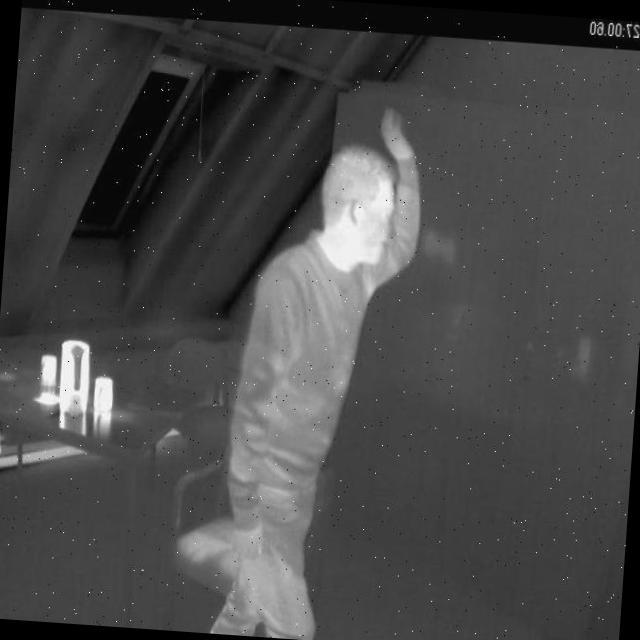person: (202, 92, 441, 640)
